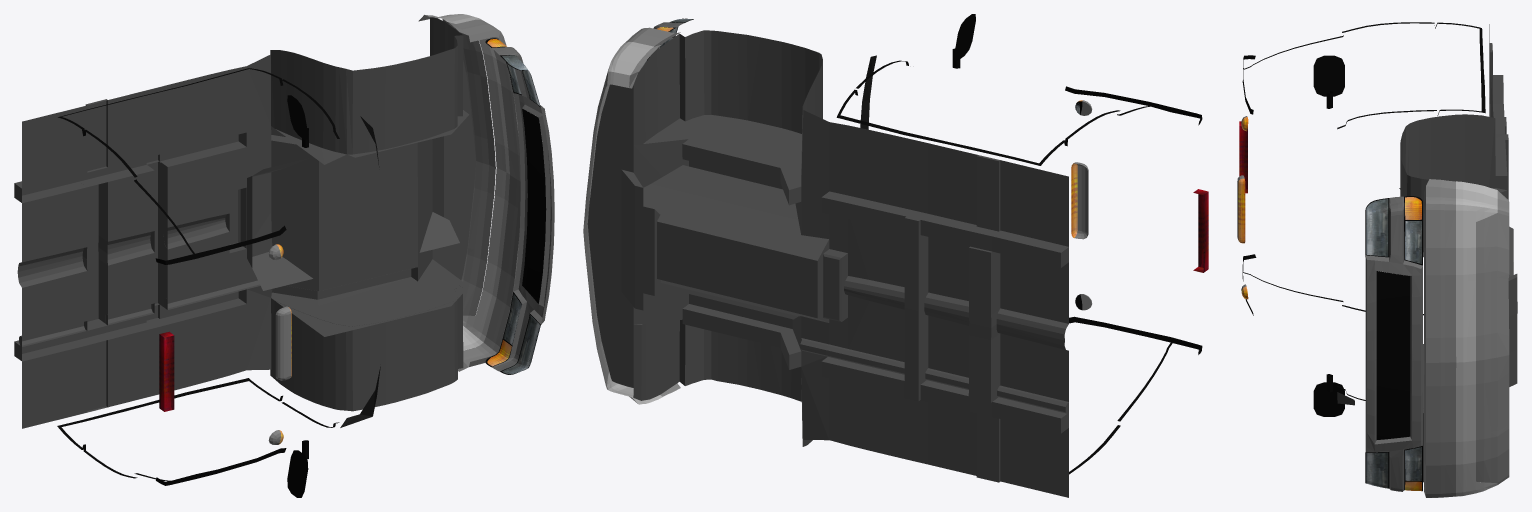
The model's file is details.obj.
The picture shows the model from 3 angles, left to right: view 1: azimuth 30°, elevation 25°; view 2: azimuth 150°, elevation 25°; view 3: azimuth 270°, elevation 25°; orthographic projection. The views are drawn at different scales.
Visible parts, largest first — view 1: 7_-_Default, 1_-_Default, 3_-_Default, 4_-_Default, 2_-_Default, map, 8_-_Default; view 2: 7_-_Default, 3_-_Default, 1_-_Default, map, 2_-_Default; view 3: 1_-_Default, 3_-_Default, 7_-_Default, 4_-_Default, 2_-_Default, map.
Boxes of the visible parts, x1,y1,x2,y2 form: 7_-_Default: [14, 17, 476, 428]; 1_-_Default: [268, 15, 520, 444]; 3_-_Default: [57, 38, 546, 497]; 4_-_Default: [492, 47, 554, 371]; 2_-_Default: [424, 14, 509, 350]; map: [159, 39, 540, 444]; 8_-_Default: [340, 116, 380, 427]; 7_-_Default: [587, 30, 1068, 497]; 3_-_Default: [647, 14, 1202, 474]; 1_-_Default: [583, 27, 1092, 403]; map: [642, 19, 1208, 309]; 2_-_Default: [589, 42, 662, 404]; 1_-_Default: [1237, 116, 1509, 497]; 3_-_Default: [1242, 22, 1485, 491]; 7_-_Default: [1399, 24, 1517, 482]; 4_-_Default: [1365, 196, 1422, 491]; 2_-_Default: [1456, 181, 1497, 496]; map: [1238, 117, 1421, 491].
Size of the model in its own units: 2.83 by 2.29 by 1.61.
7 materials, 1 textured.
